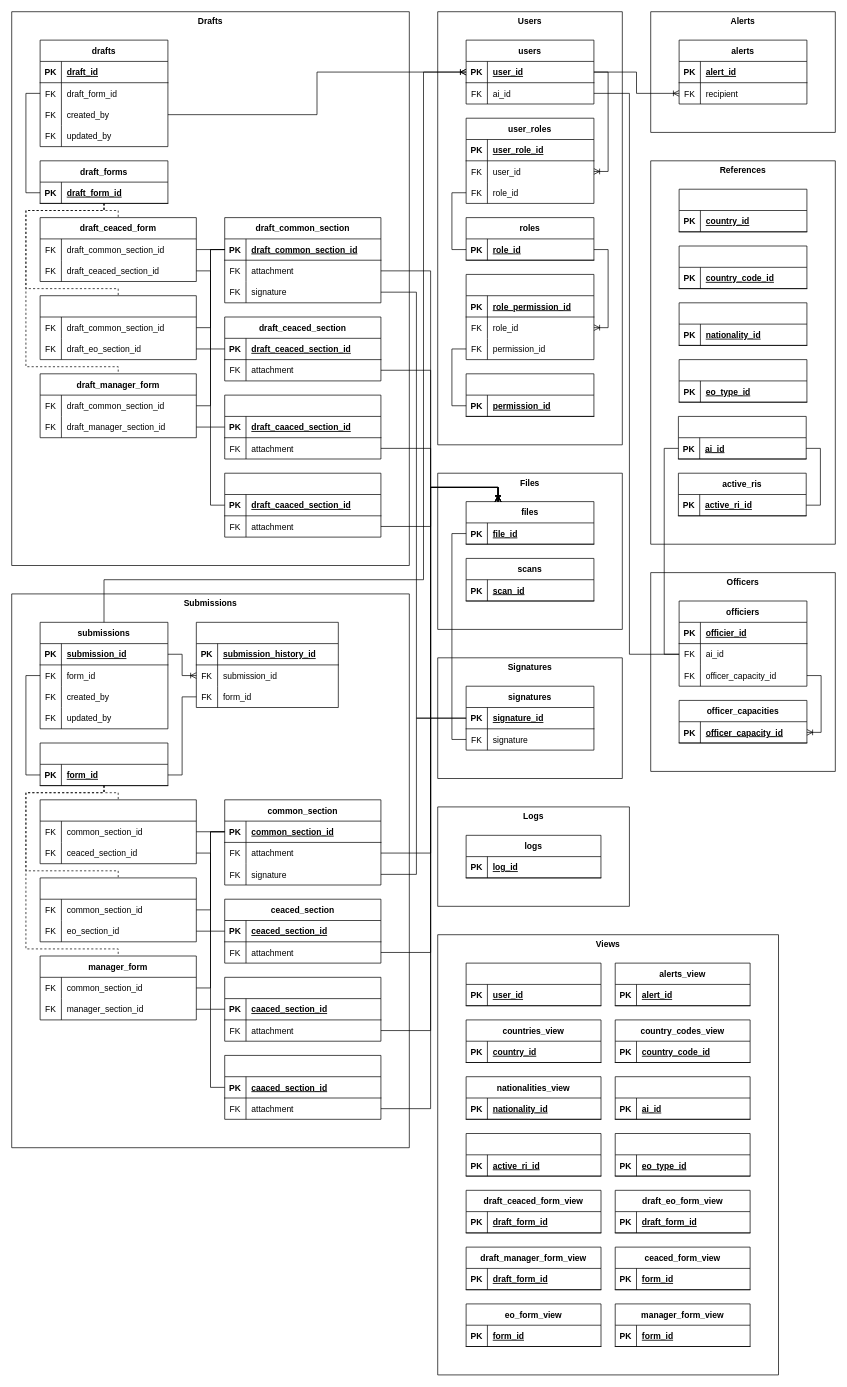
The diagram is 847 pixels wide and 1387 high, and some of its shapes have lost their labels. Each missing label, with the box of its shape:
active_ris_view: (465, 1133, 601, 1176)
ais: (678, 416, 806, 459)
ais_view: (615, 1076, 750, 1119)
ceaced_form: (39, 799, 196, 864)
countries: (678, 189, 807, 232)
country_codes: (678, 245, 807, 289)
draft_eo_form: (39, 295, 196, 360)
draft_eo_section: (224, 394, 381, 459)
draft_manager_section: (224, 473, 381, 537)
eo_form: (39, 877, 196, 942)
eo_section: (224, 977, 381, 1041)
eo_types: (678, 359, 807, 402)
eo_types_view: (615, 1133, 750, 1176)
forms: (39, 742, 168, 786)
manager_section: (224, 1055, 381, 1119)
nationalities: (678, 302, 807, 345)
permissions: (465, 373, 594, 416)
role_permissions: (465, 274, 594, 360)
submission_histories: (196, 622, 338, 708)
users_view: (465, 962, 601, 1006)
